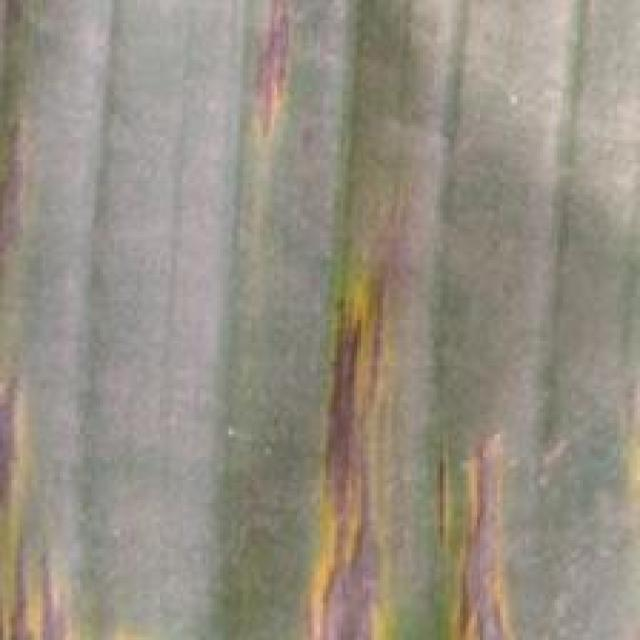Early_leaf_spot: (281, 244, 417, 640), (0, 361, 100, 634), (428, 365, 525, 640), (231, 0, 303, 170), (593, 337, 640, 561), (0, 96, 38, 270), (0, 0, 63, 50)
